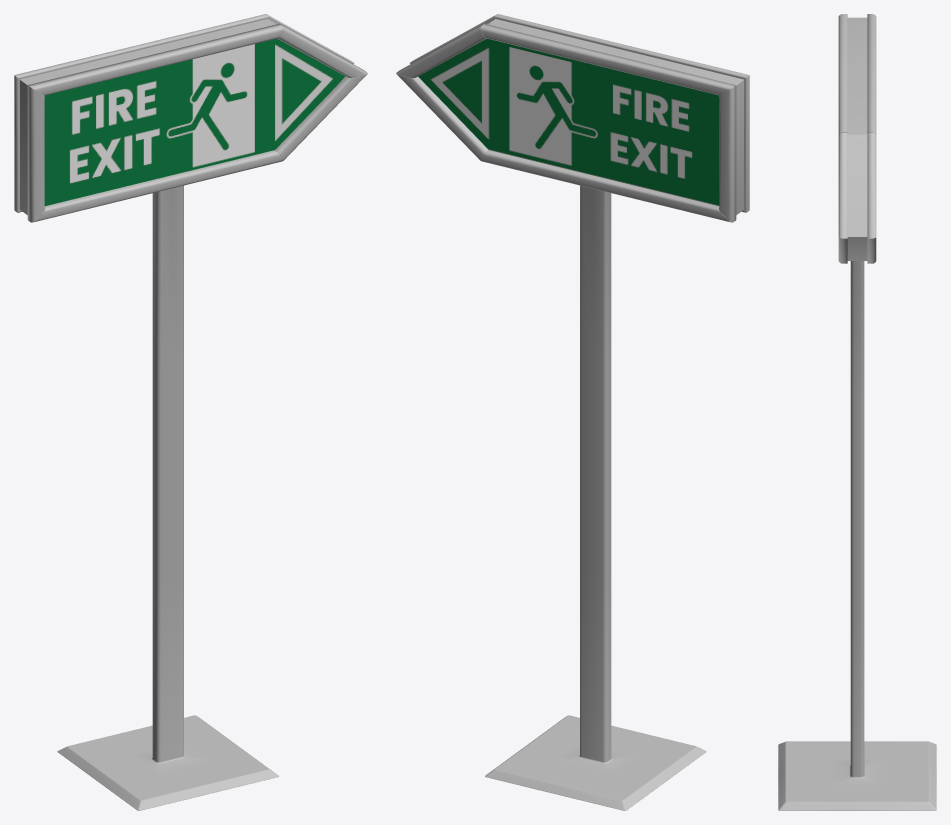
The model's file is Floor_Stand.glb.
The picture shows the model from 3 angles, left to right: view 1: azimuth 30°, elevation 25°; view 2: azimuth 150°, elevation 25°; view 3: azimuth 270°, elevation 25°; orthographic projection. The views are drawn at different scales.
Parts seen in each view (by area): view 1: Floor_Stand; view 2: Floor_Stand; view 3: Floor_Stand.
Part boxes in pixels (bbox=[...]): Floor_Stand: bbox=[14, 14, 367, 810]; Floor_Stand: bbox=[396, 14, 749, 810]; Floor_Stand: bbox=[778, 14, 936, 810].
Size of the model in its own units: 0.5596 by 1.14 by 0.2352.
Materials: 1 (1 with a texture image).
